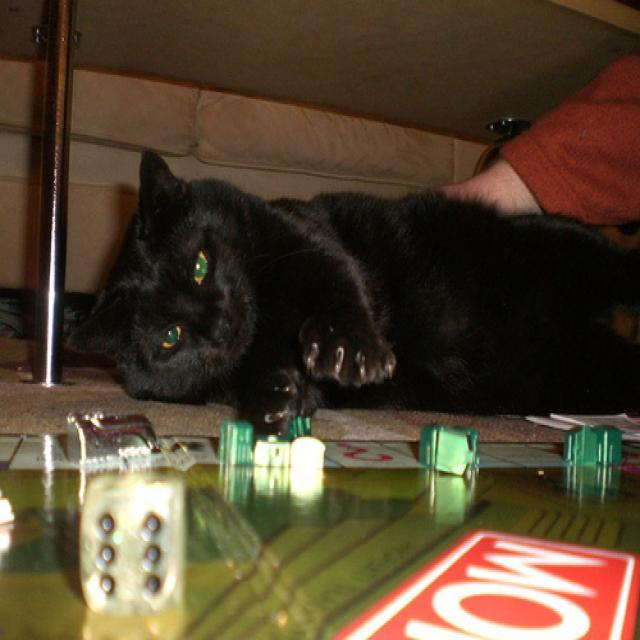Bombay: (84, 146, 290, 389)
